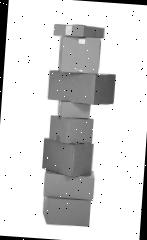paper: (47, 69, 116, 106), (42, 138, 94, 178), (58, 34, 102, 74), (44, 168, 96, 200), (42, 195, 92, 226), (48, 114, 94, 146), (54, 22, 105, 38), (58, 100, 90, 118)
